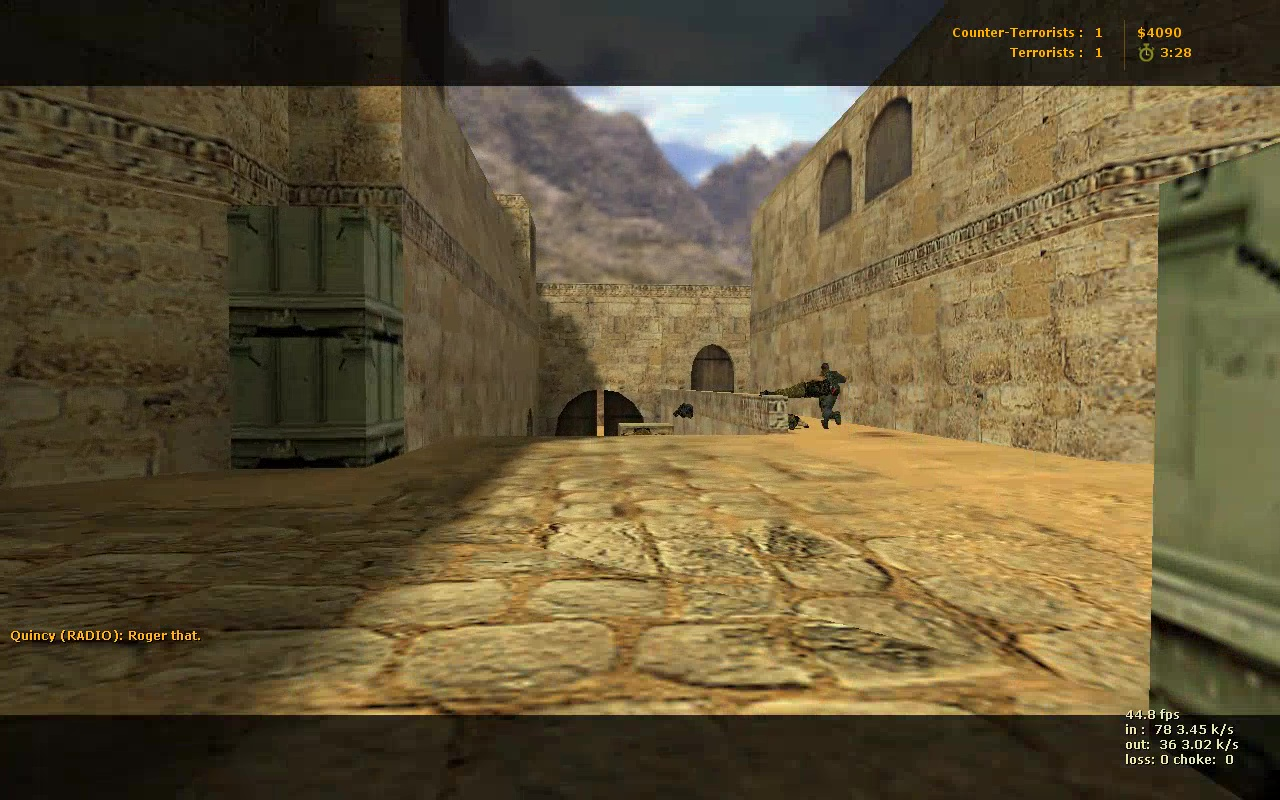ct: (816, 362, 845, 429)
dead: (755, 378, 846, 400)
